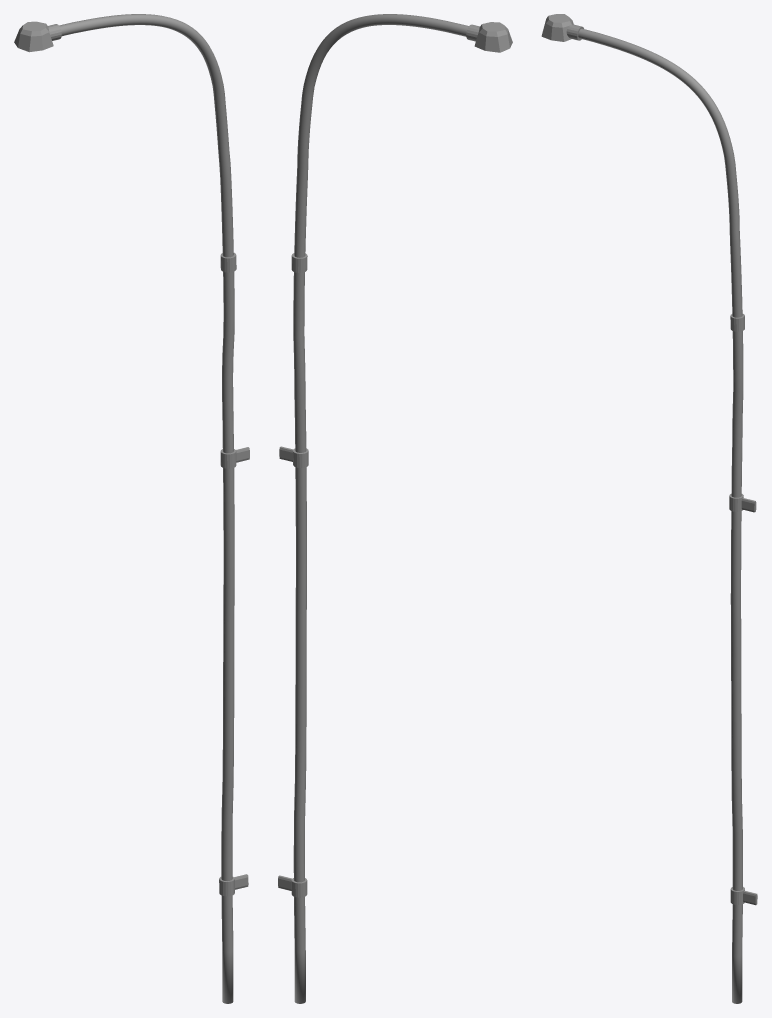
Rendered from Shower1.0.fbx.
The picture shows the model from 3 angles, left to right: view 1: azimuth 30°, elevation 25°; view 2: azimuth 150°, elevation 25°; view 3: azimuth 330°, elevation 25°; orthographic projection. The views are drawn at different scales.
Visible parts, largest first — view 1: Shower; view 2: Shower; view 3: Shower.
Boxes of the visible parts, x1,y1,x2,y2 form: Shower: (14, 14, 249, 1003); Shower: (278, 14, 512, 1003); Shower: (541, 14, 757, 1003).
Bounding box in the file's own units: 52.37 × 222 × 6.8.
Materials: 1 (1 with a texture image).
